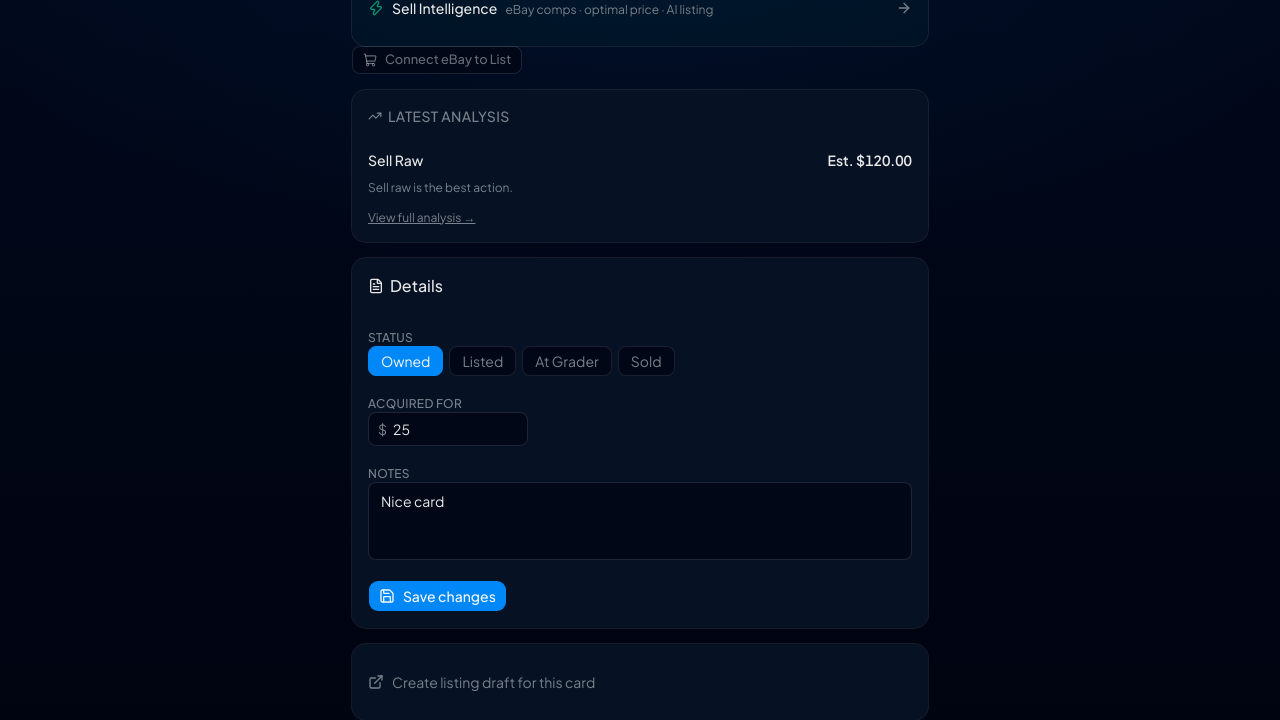
Scenario: InventoryDetailPage — detail › shows save error when PATCH fails
This screenshot has width=1280, height=720.
(page scrolled)
Click the button with test id "save-changes-button".
click(437, 596)  # box [368,580,507,612]
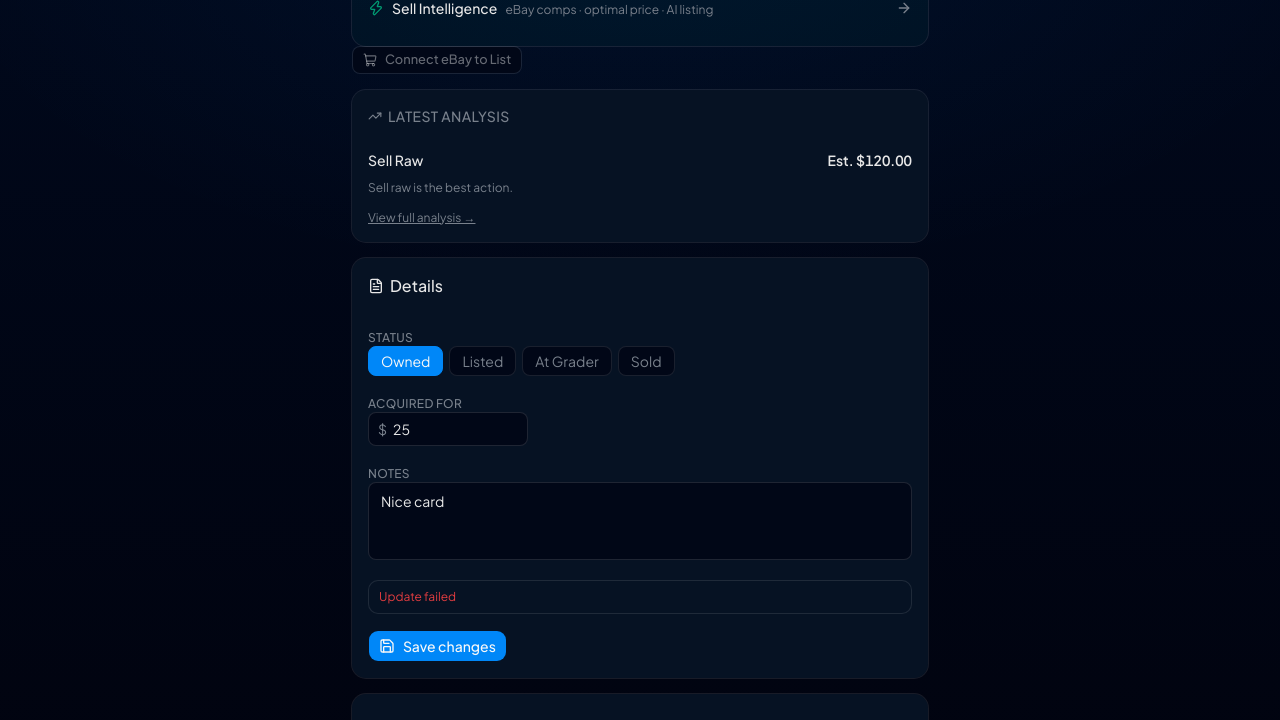
Expected: the message "Update failed" is shown, [368,580,912,614]
Expected: the message with test id "save-error" reads "Update failed", [379,588,456,604]
